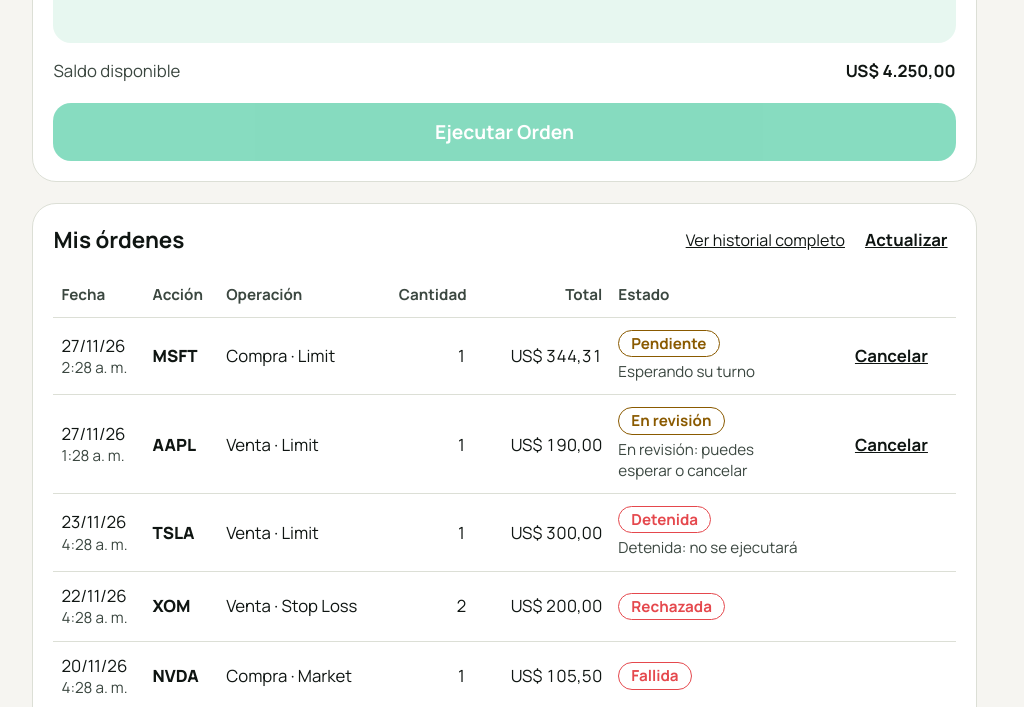
pantalla Operar (SCRUM-61) › cancelar una orden pendiente pide confirmación y libera el saldo
(page scrolled)
Click the button with aria-label "cancelar orden de msft" at (891, 356), box [847, 340, 936, 372]
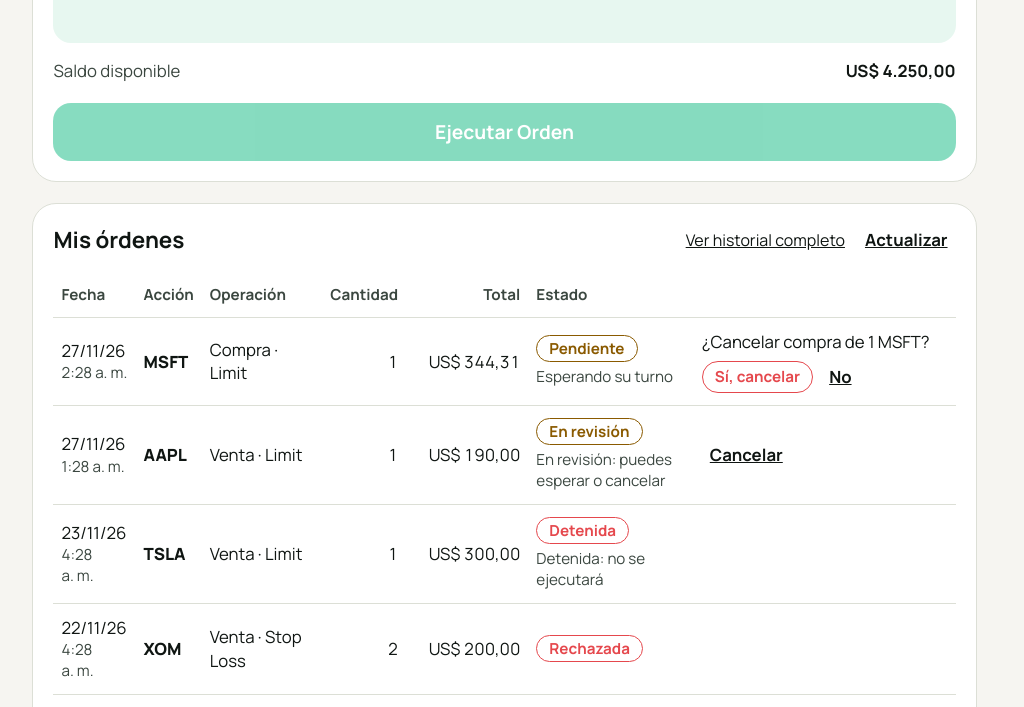
Now the text "¿Cancelar compra de 1 MSFT?" is shown, box [702, 330, 930, 353]
Click the button "Sí, cancelar" at (758, 377), box [702, 361, 813, 393]
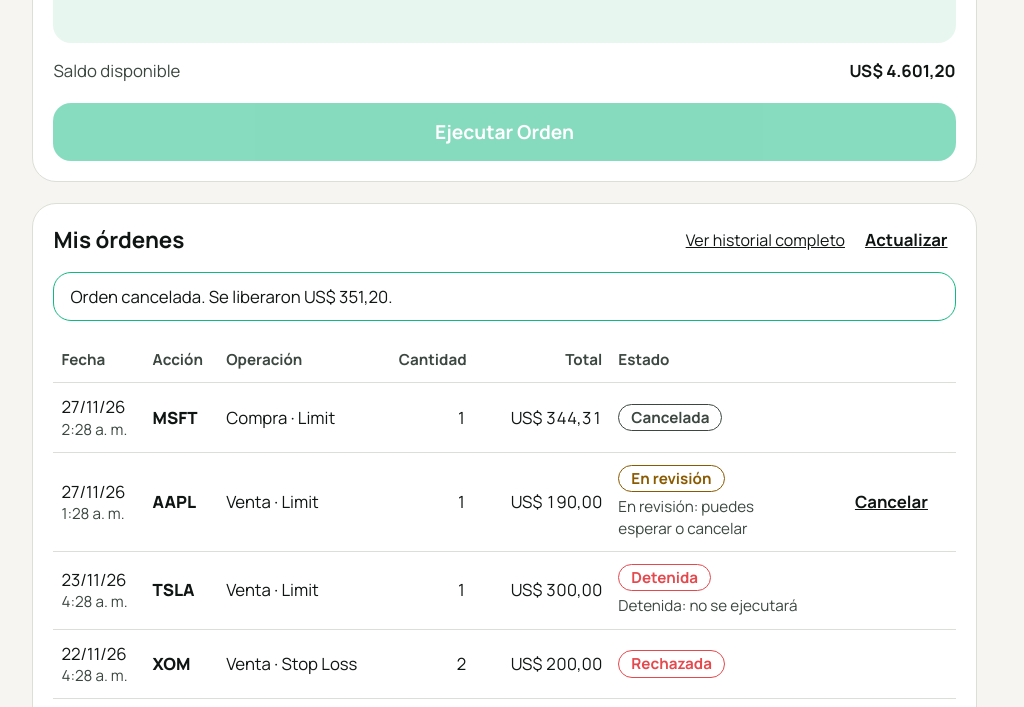
Now the text "Orden cancelada. Se liberaron US$ 351,20." is shown, box [54, 272, 956, 321]
Now the text "Cancelada" is shown, box [618, 404, 722, 431]
